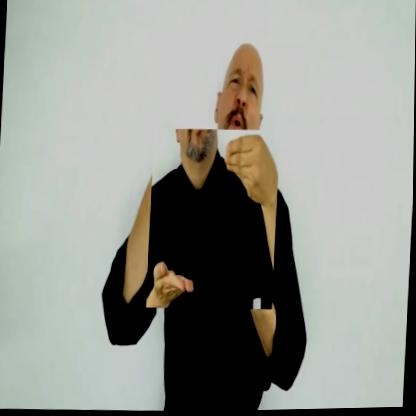Expensive: (147, 127, 281, 313)
